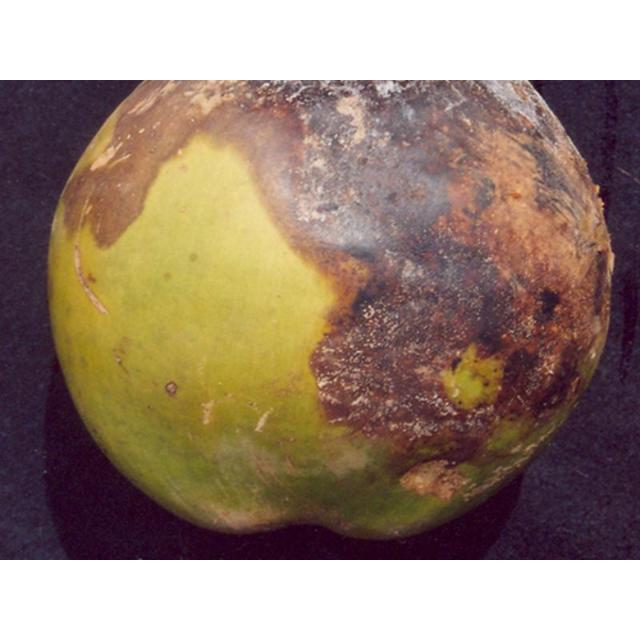damaged: (46, 80, 615, 542)
